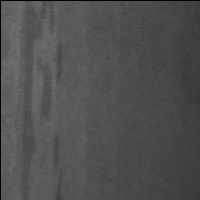inclusion: (16, 2, 39, 200), (36, 41, 65, 128), (48, 133, 65, 200), (35, 1, 56, 35)
